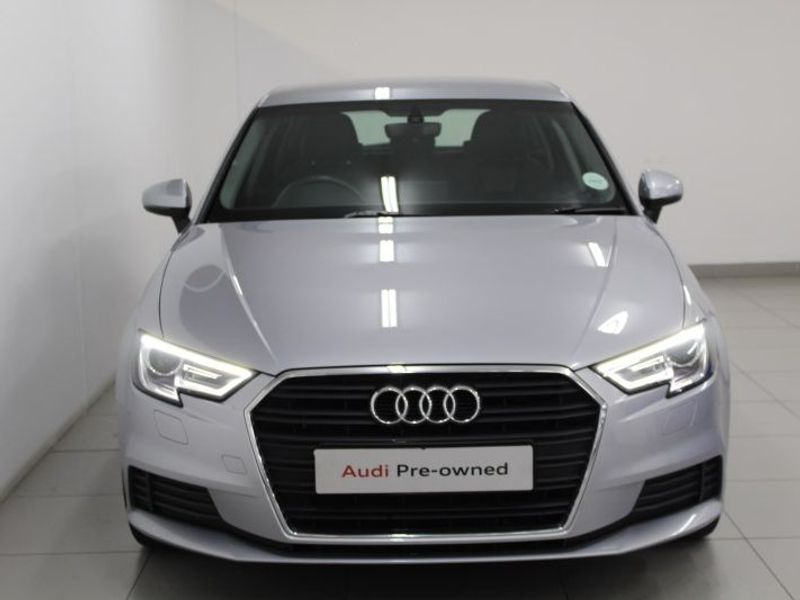audi: (363, 383, 487, 431)
